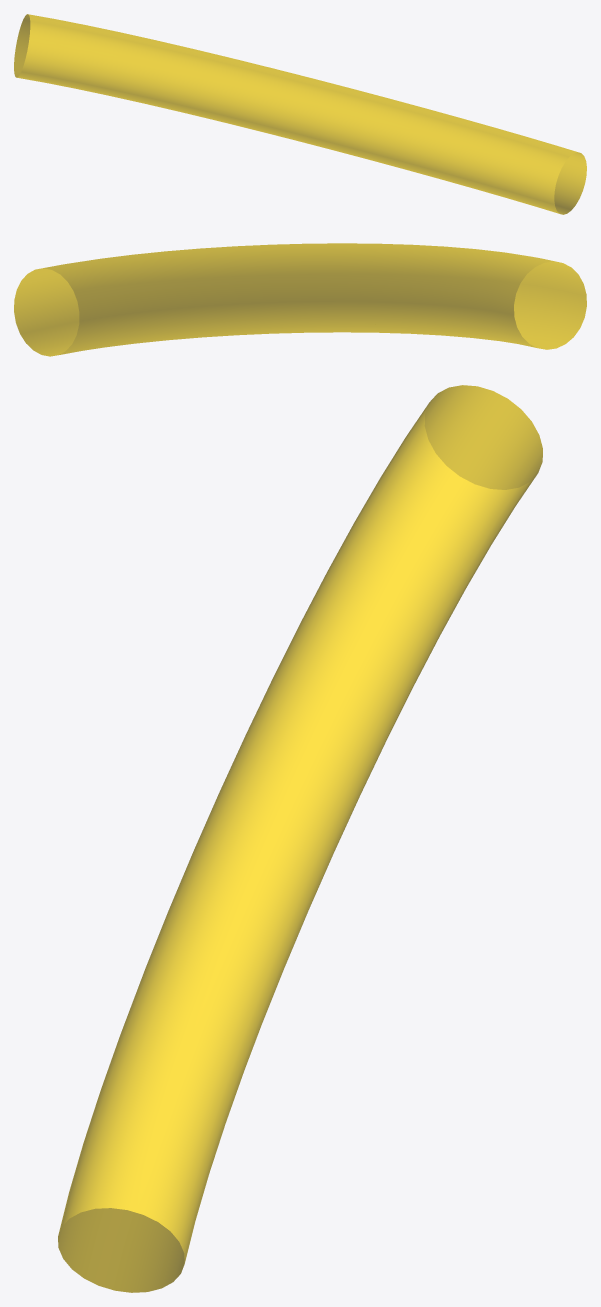
The model's file is Event_27938768_track_69.fbx.
3 views of the same model, one above another, from view 1: azimuth 30°, elevation 25°; view 2: azimuth 150°, elevation 25°; view 3: azimuth 270°, elevation 25° (orthographic). The views are drawn at different scales.
Parts seen in each view (by area): view 1: Model; view 2: Model; view 3: Model.
Part boxes in pixels (bbox=[...]): Model: bbox=[14, 14, 586, 214]; Model: bbox=[14, 243, 586, 356]; Model: bbox=[58, 385, 542, 1292].
Bounding box in the file's own units: 0.3442 × 0.162 × 0.1495.
